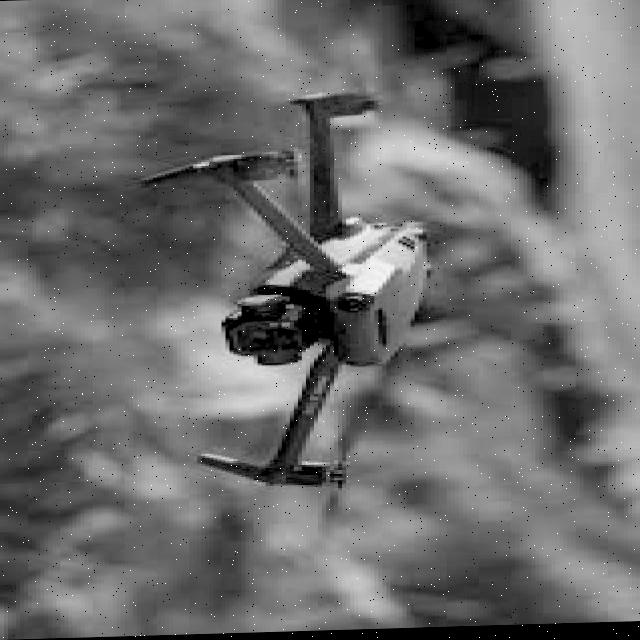drone: (141, 61, 479, 520)
